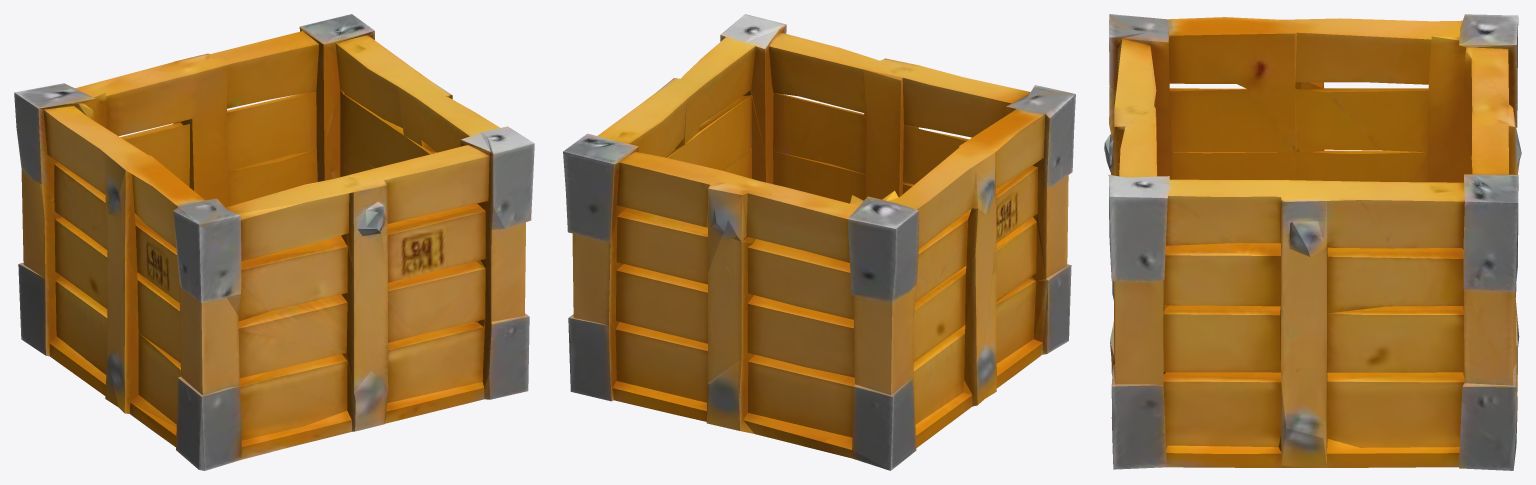
The model's file is crate.glb.
3 views of the same model, side by side, from view 1: azimuth 30°, elevation 25°; view 2: azimuth 150°, elevation 25°; view 3: azimuth 270°, elevation 25° (orthographic). The views are drawn at different scales.
Parts seen in each view (by area): view 1: model; view 2: model; view 3: model.
Boxes of the visible parts, x1,y1,x2,y2 form: model: [14, 14, 534, 470]; model: [563, 14, 1075, 470]; model: [1104, 14, 1521, 470].
Bounding box in the file's own units: 1.88 × 1.34 × 1.81.
Materials: 1 (1 with a texture image).
